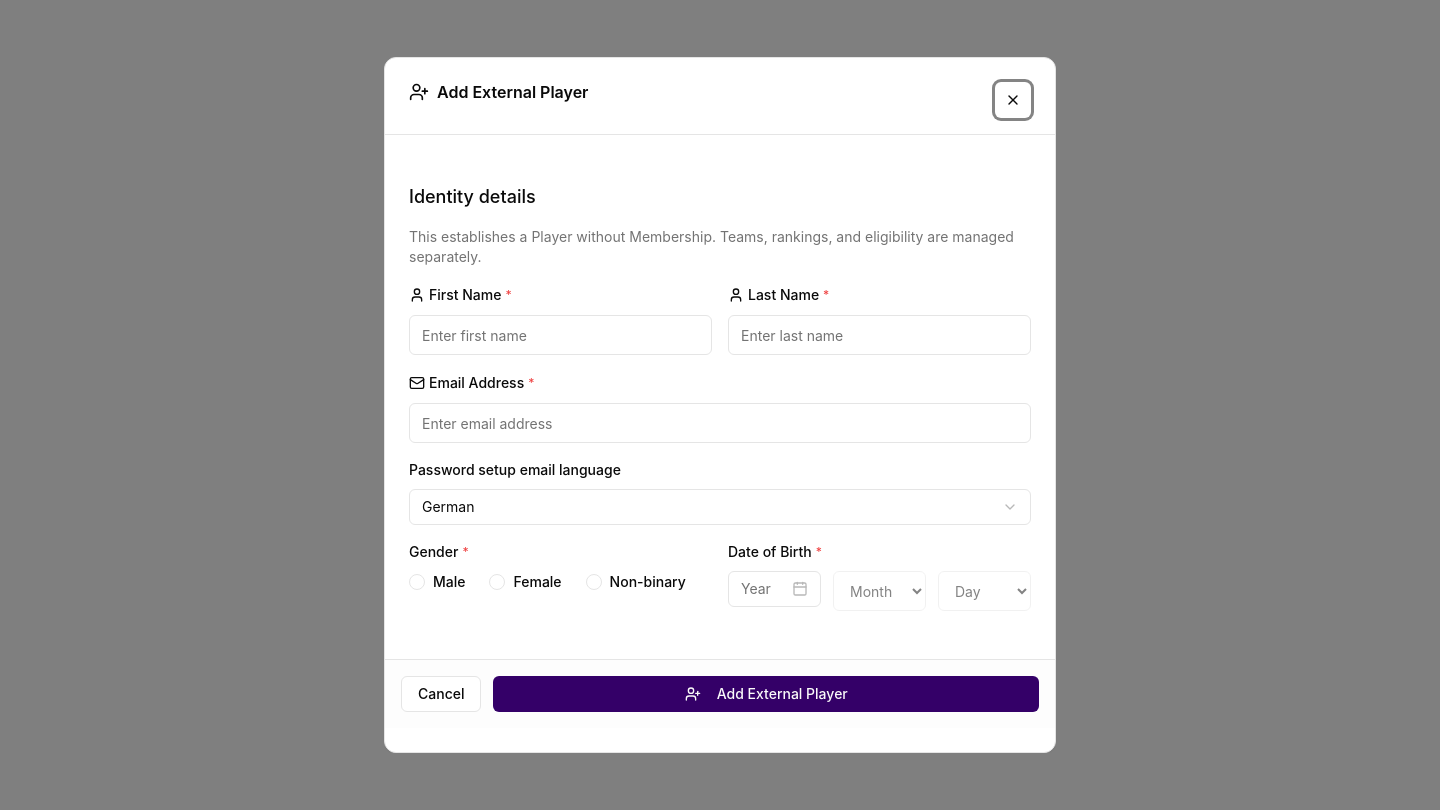
Test case: AddExternalPlayerModal Account Onboarding intent › submits the exact fixed External Player intent
The image size is (1440, 810).
Type "External" into the field labelled "First Name" at point(560, 335), box [409, 315, 712, 355]
Type "Player" into the field labelled "Last Name" at point(880, 335), box [728, 315, 1031, 355]
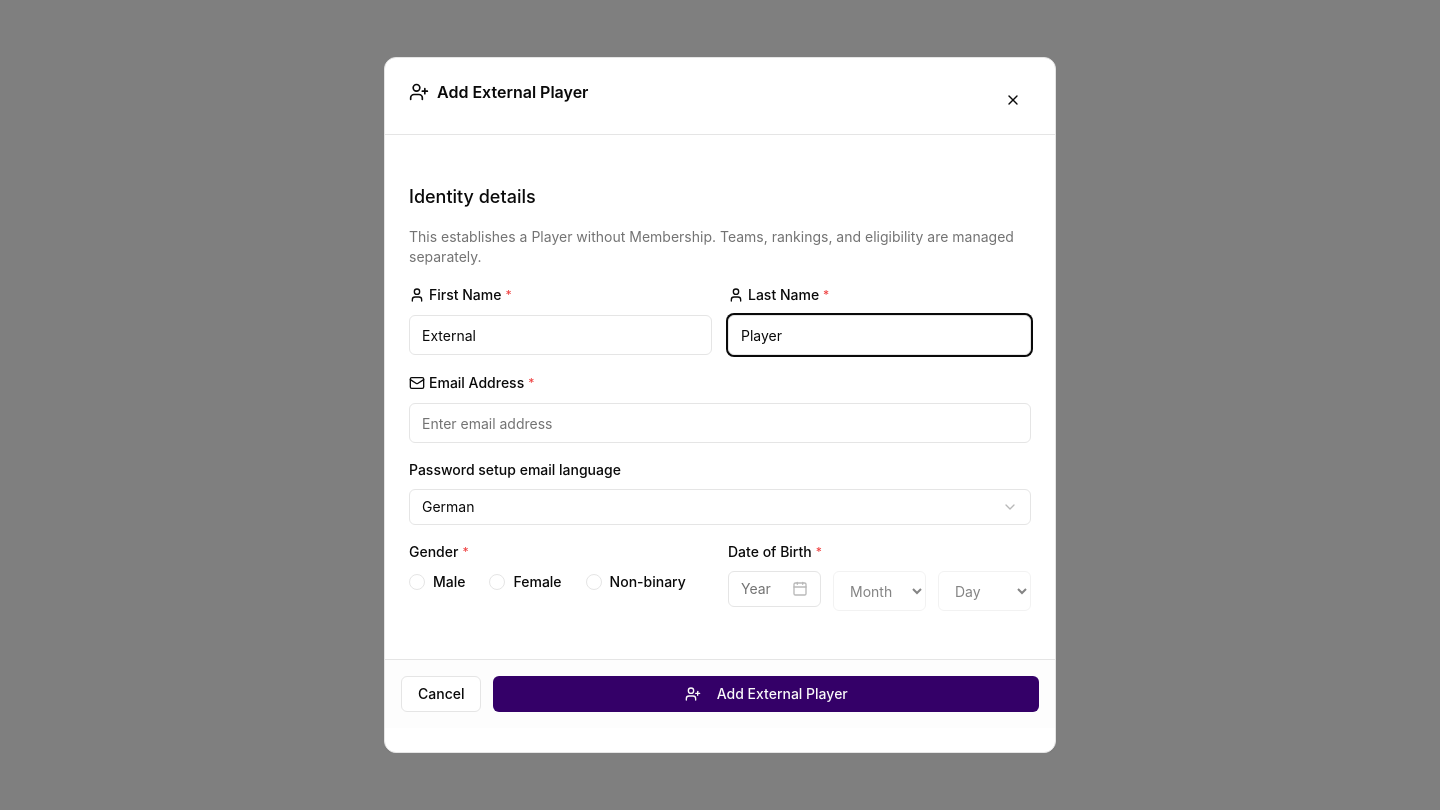
Type "external@example.test" into the field labelled "Email Address" at point(720, 423), box [409, 403, 1031, 443]
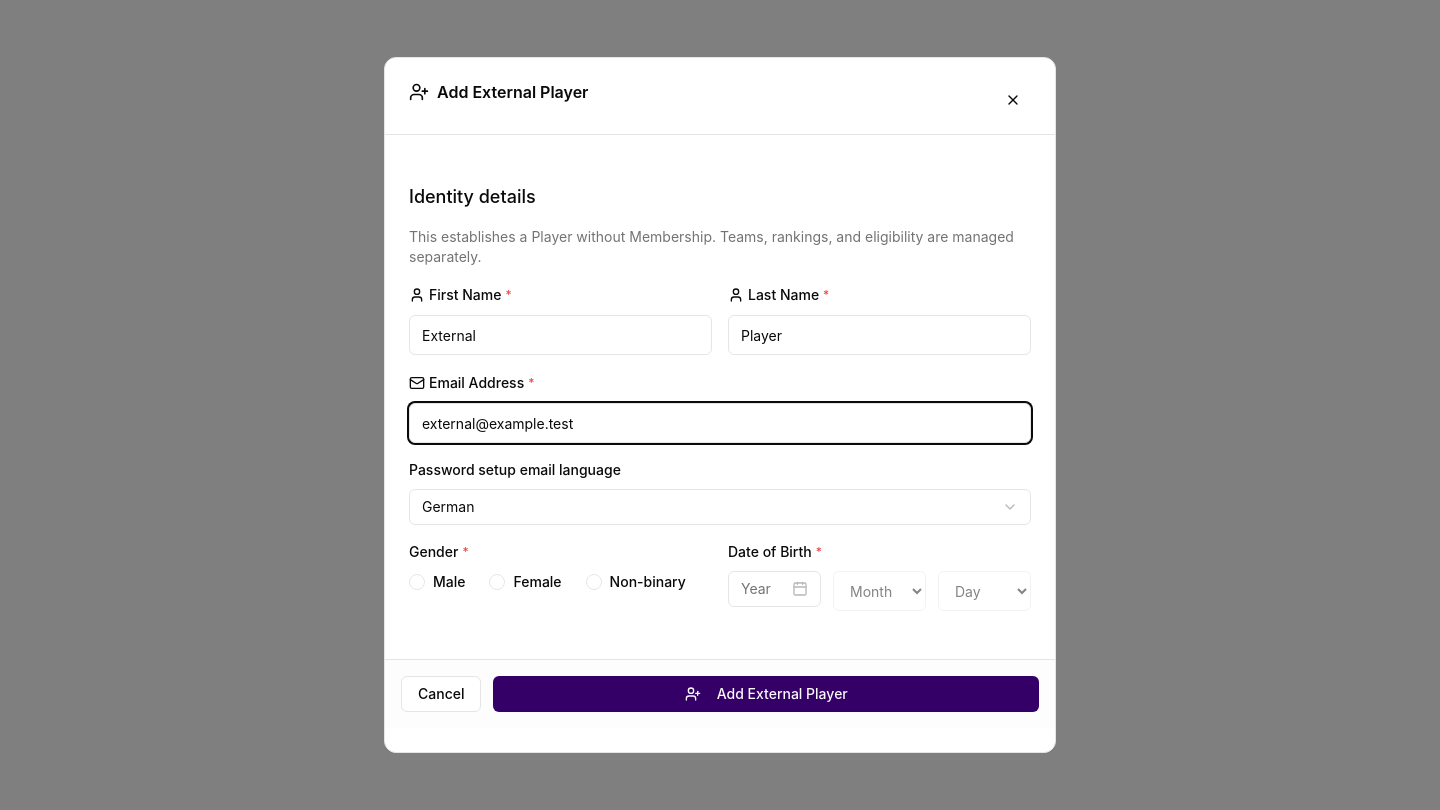
Click the radio button named "Female" next to "Female" at point(498, 582), box [490, 574, 506, 590]
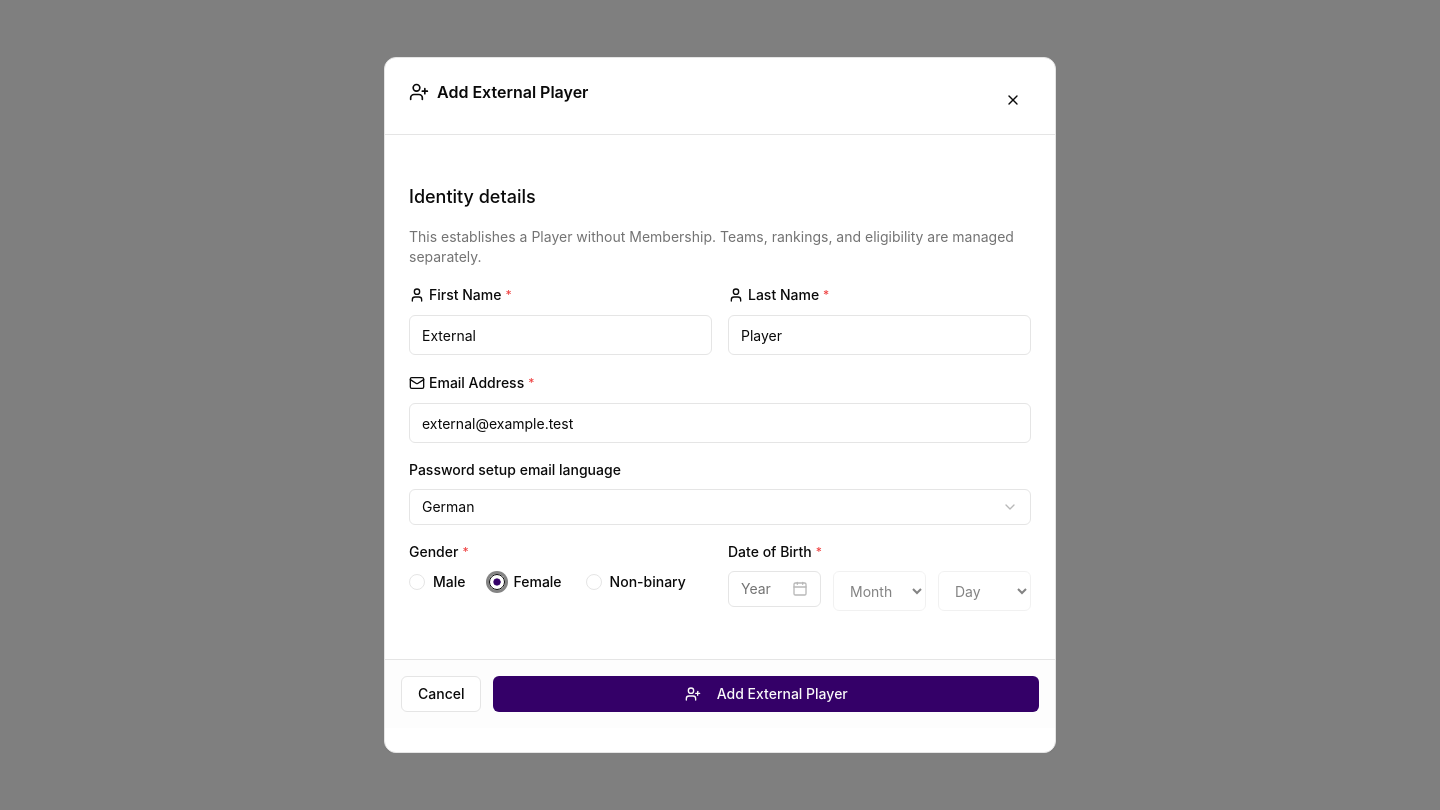
Click the dropdown named "Date of Birth" at point(774, 589), box [728, 571, 821, 607]
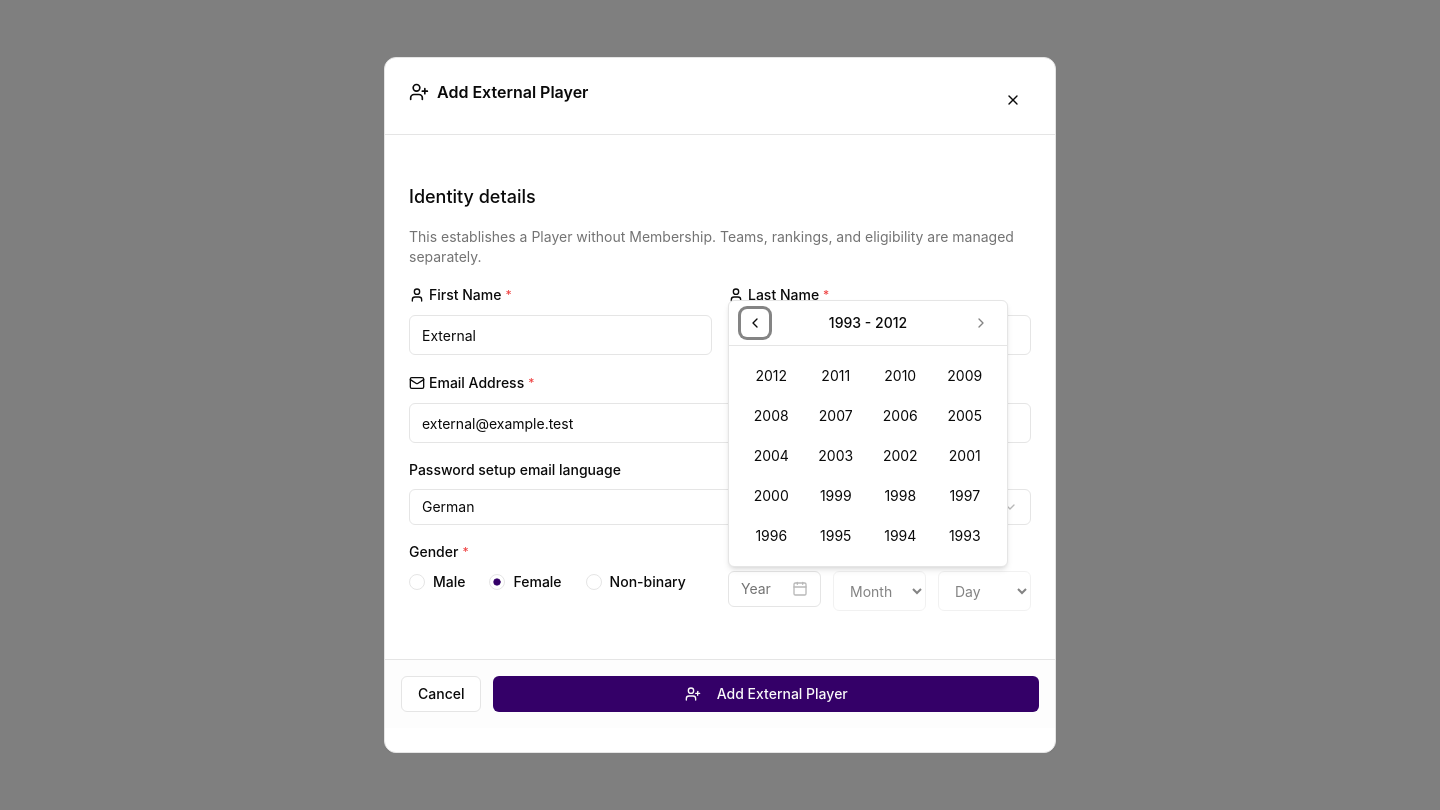
Click the button "2000" at point(771, 496), box [741, 478, 802, 514]
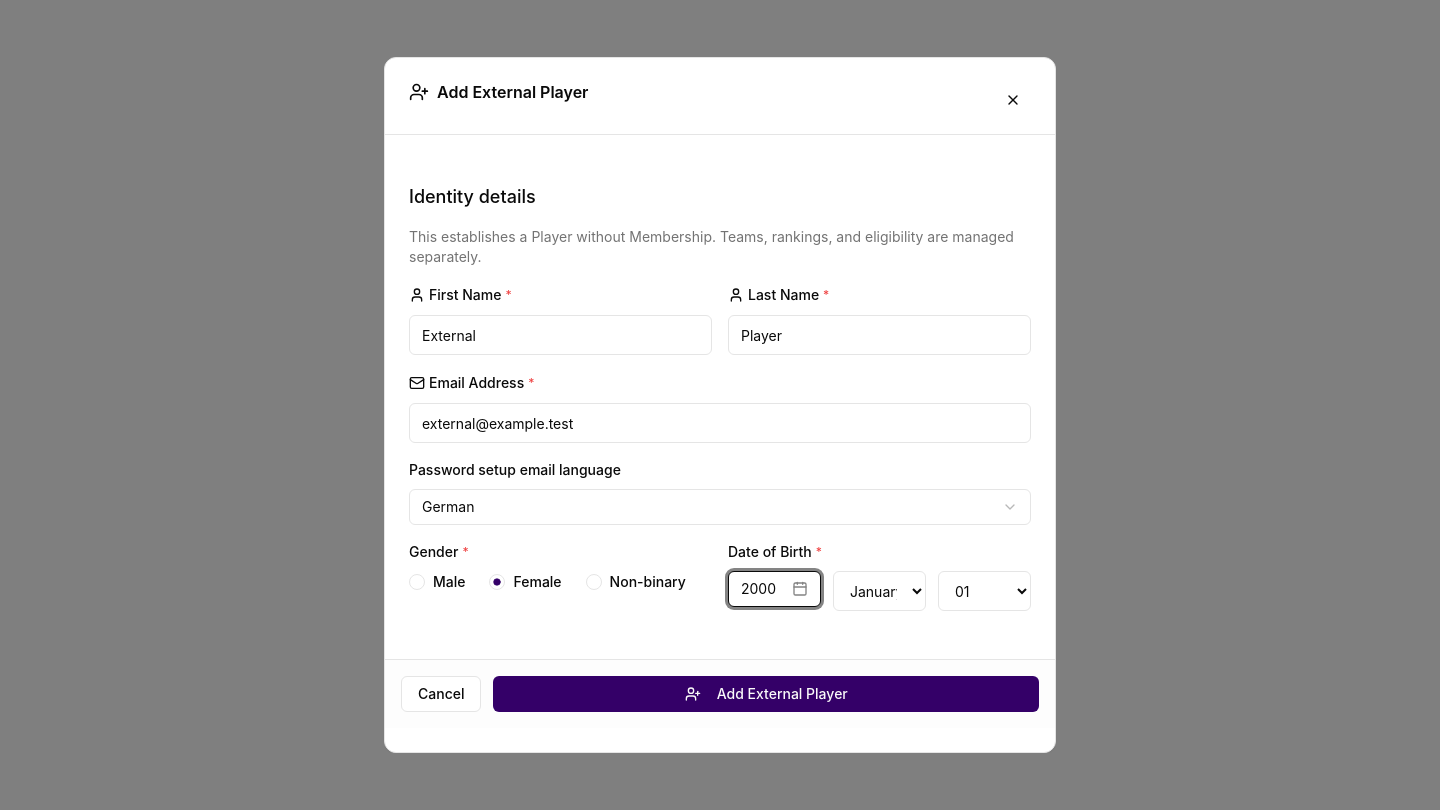
Click the button "Add External Player" at point(766, 694), box [494, 676, 1039, 712]
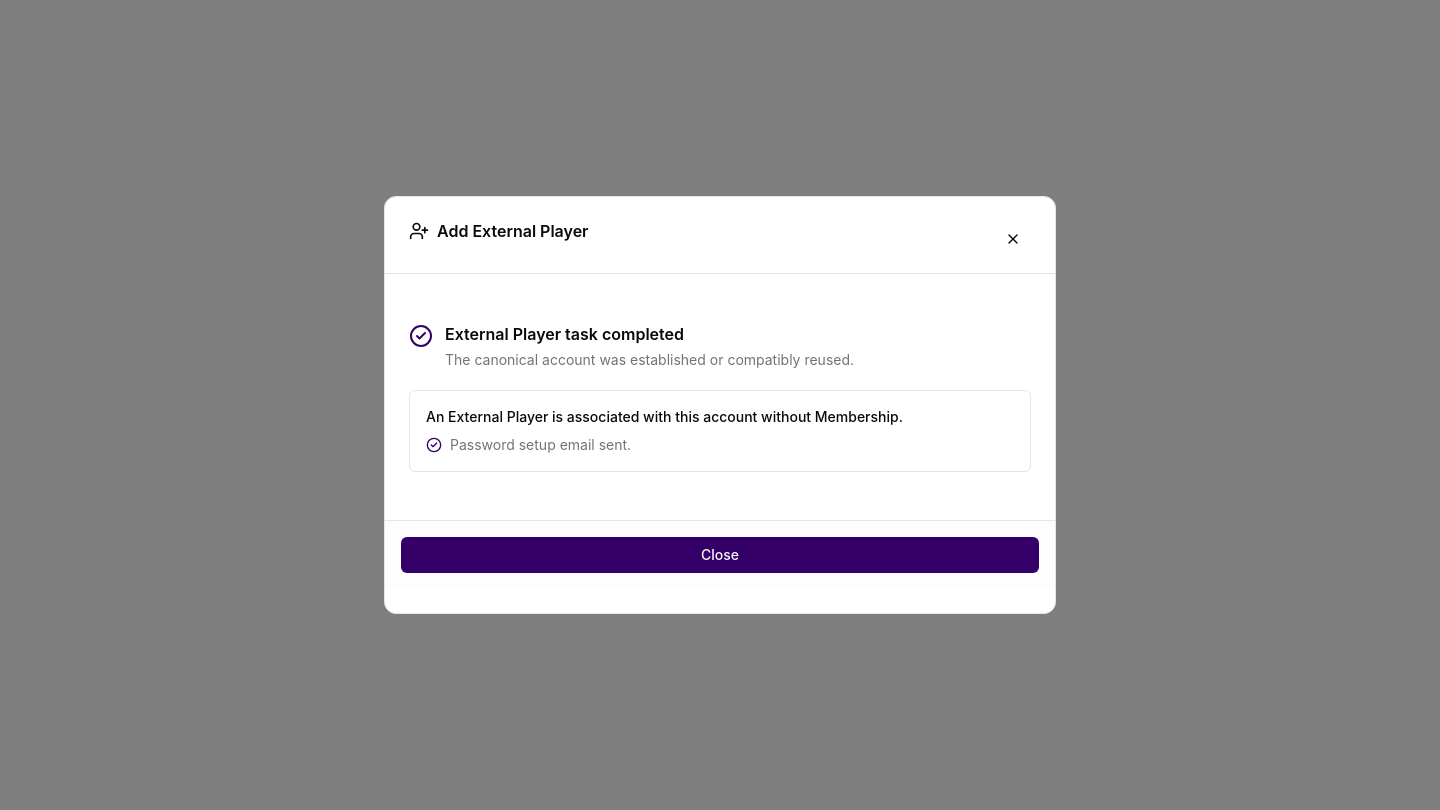
Expected: the heading "External Player task completed" is shown, [445, 324, 684, 344]
Expected: the text "without Membership" is shown, [426, 408, 903, 425]
